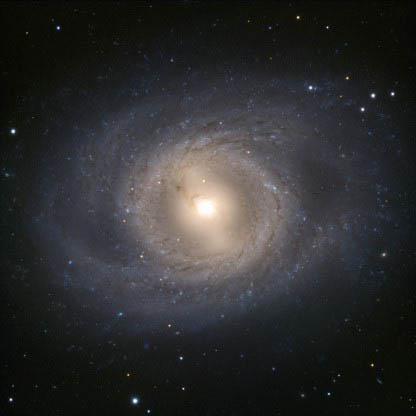Messier 95: (28, 68, 393, 340)
